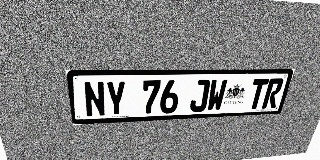6: (160, 80, 180, 114)
7: (141, 80, 161, 115)
J: (189, 79, 211, 112)
N: (83, 81, 106, 117)
R: (261, 78, 285, 109)
T: (246, 79, 269, 109)
W: (206, 79, 228, 111)
Y: (105, 81, 126, 116)
